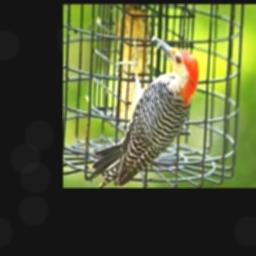Woodpecker: (92, 35, 199, 186)
